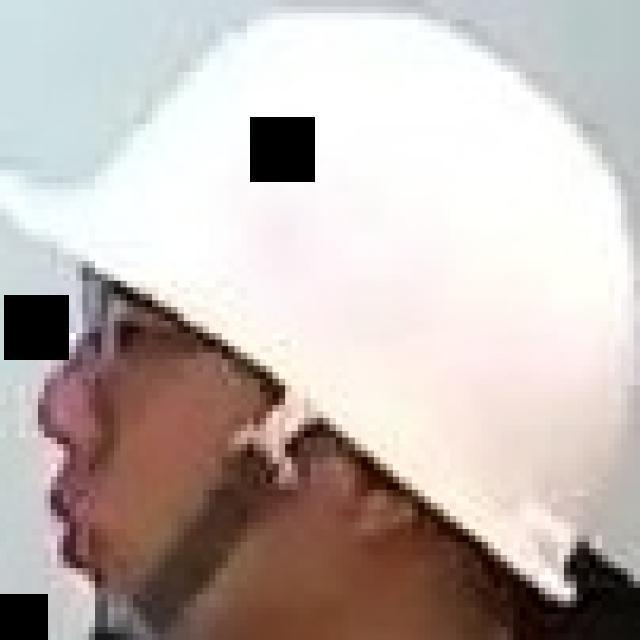white helmet: (29, 28, 630, 479)
